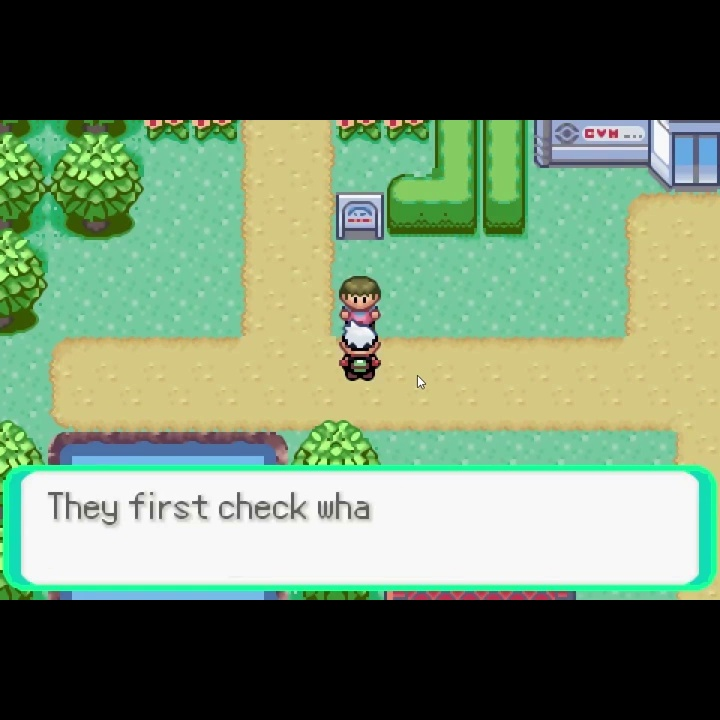gym: (531, 121, 720, 194)
npc: (338, 324, 385, 382), (338, 274, 385, 324)
wall: (50, 131, 144, 241), (1, 227, 48, 339), (1, 131, 50, 237), (288, 419, 380, 465), (51, 121, 145, 148), (1, 420, 47, 466), (1, 120, 50, 147)
